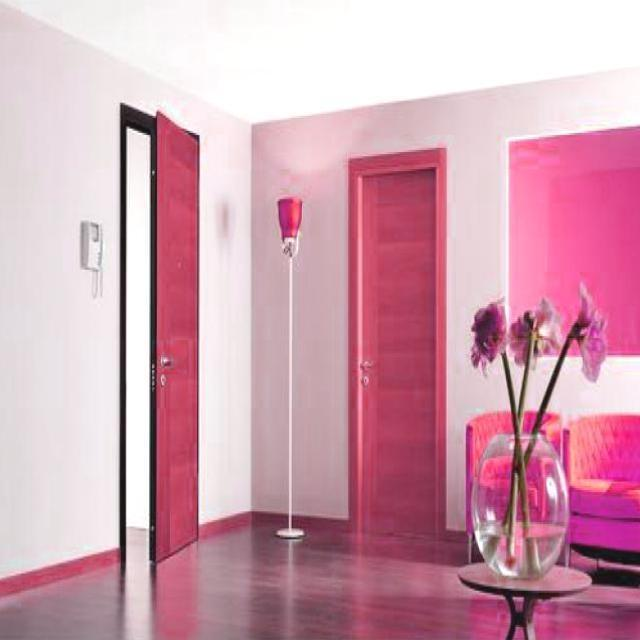door: (336, 140, 456, 571), (146, 107, 206, 568)
